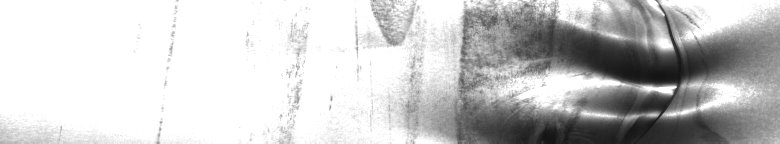ke: (460, 4, 716, 132)
